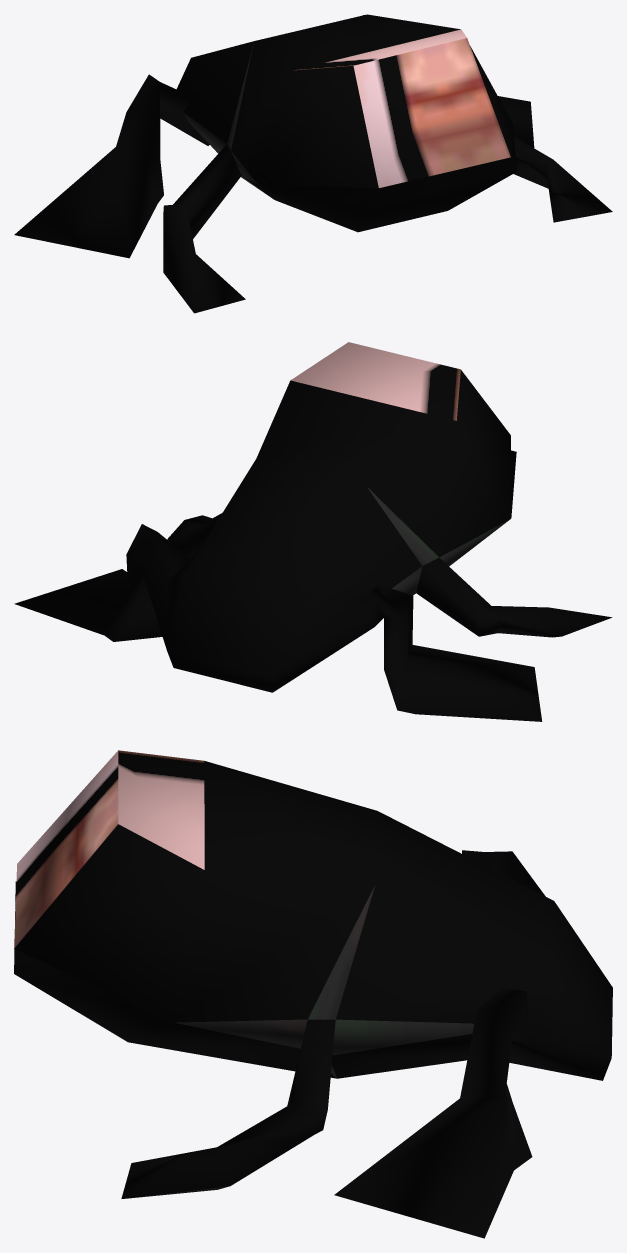
The picture shows the model from 3 angles, top to bottom: view 1: azimuth 30°, elevation 25°; view 2: azimuth 150°, elevation 25°; view 3: azimuth 270°, elevation 25°; orthographic projection. The views are drawn at different scales.
Visible parts, largest first — view 1: T1L6M005_4; view 2: T1L6M005_4; view 3: T1L6M005_4.
Part boxes in pixels (x1=…): T1L6M005_4: x1=14, y1=14, x2=612, y2=313; T1L6M005_4: x1=14, y1=342, x2=612, y2=721; T1L6M005_4: x1=14, y1=750, x2=612, y2=1238.
Size of the model in its own units: 1.26 by 0.4966 by 0.9313.
